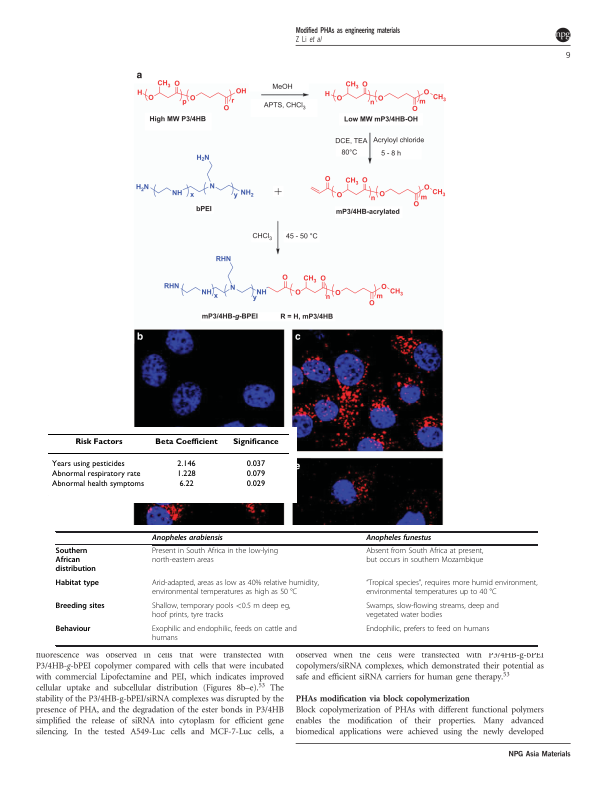borderless: (54, 530, 537, 645), (46, 432, 290, 497)
cell: (365, 579, 538, 598), (151, 579, 320, 598), (151, 625, 298, 644), (151, 602, 291, 621), (365, 602, 500, 621), (151, 547, 279, 566), (365, 547, 484, 566), (365, 625, 490, 635), (54, 547, 97, 575), (51, 479, 145, 489), (51, 469, 141, 479), (51, 459, 125, 468), (151, 534, 224, 543), (365, 534, 432, 543), (154, 437, 218, 446), (54, 602, 106, 612), (54, 579, 100, 589), (74, 437, 123, 446), (232, 437, 279, 446), (54, 625, 91, 635), (245, 469, 266, 479), (245, 479, 266, 489), (176, 469, 196, 479), (245, 459, 266, 468), (176, 459, 196, 468), (178, 479, 194, 489)
